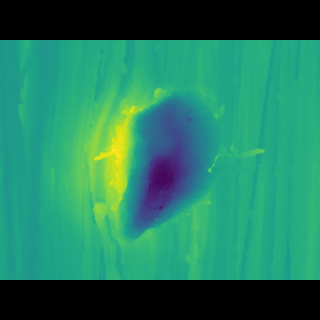Loch: (87, 95, 231, 227)
